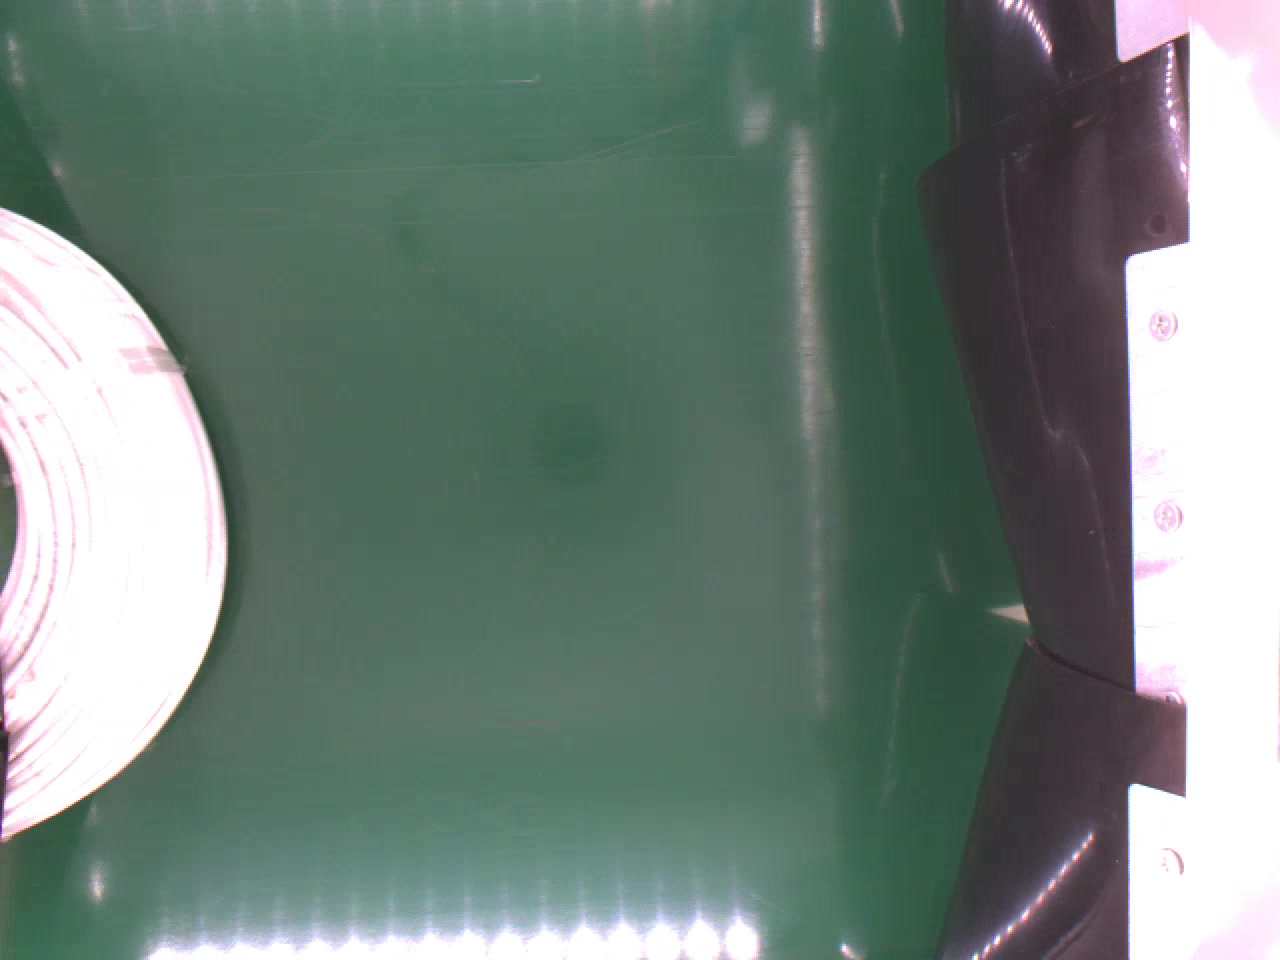white: (0, 207, 231, 842)
